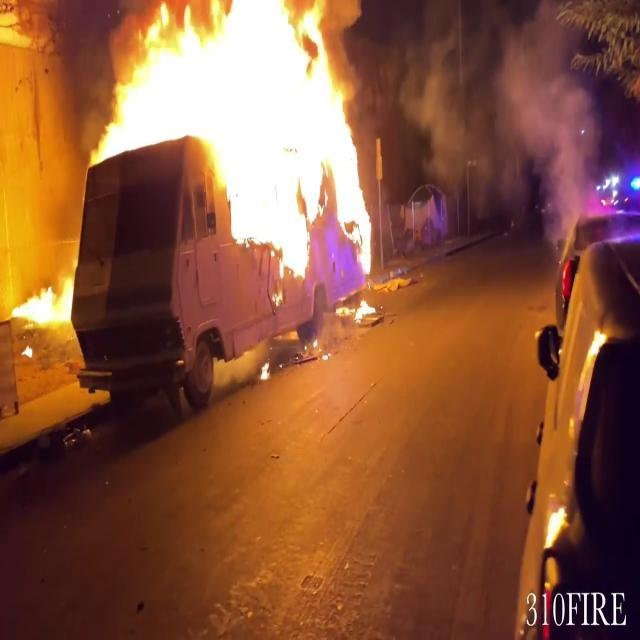Fire: (92, 0, 379, 284), (9, 260, 76, 338)
Smoke: (394, 0, 607, 218)
